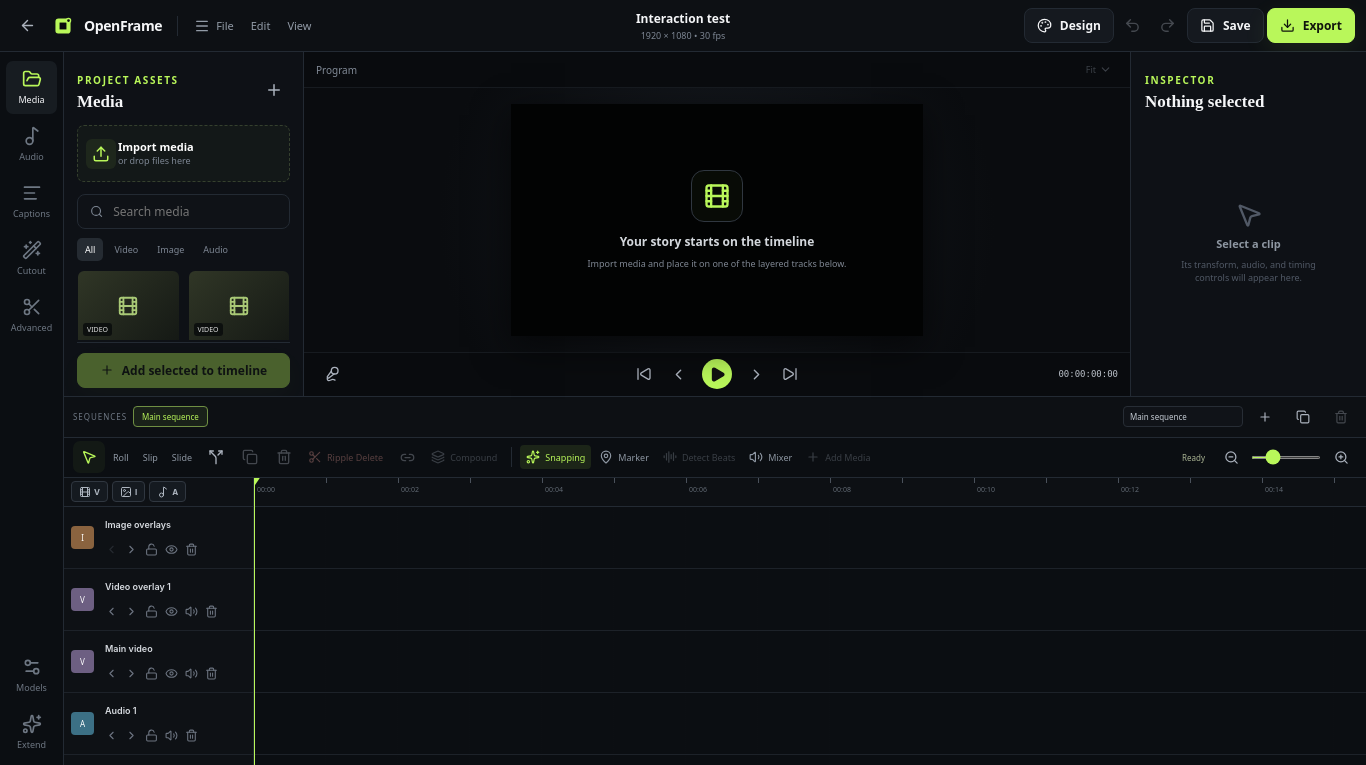
Test case: editor interactions › supports keyboard insertion, frame stepping, snapping, and deletion
Press Enter in the button "VIDEO one.mp4 video • 00:00:03:00 Timeline", box [77,270,180,407]
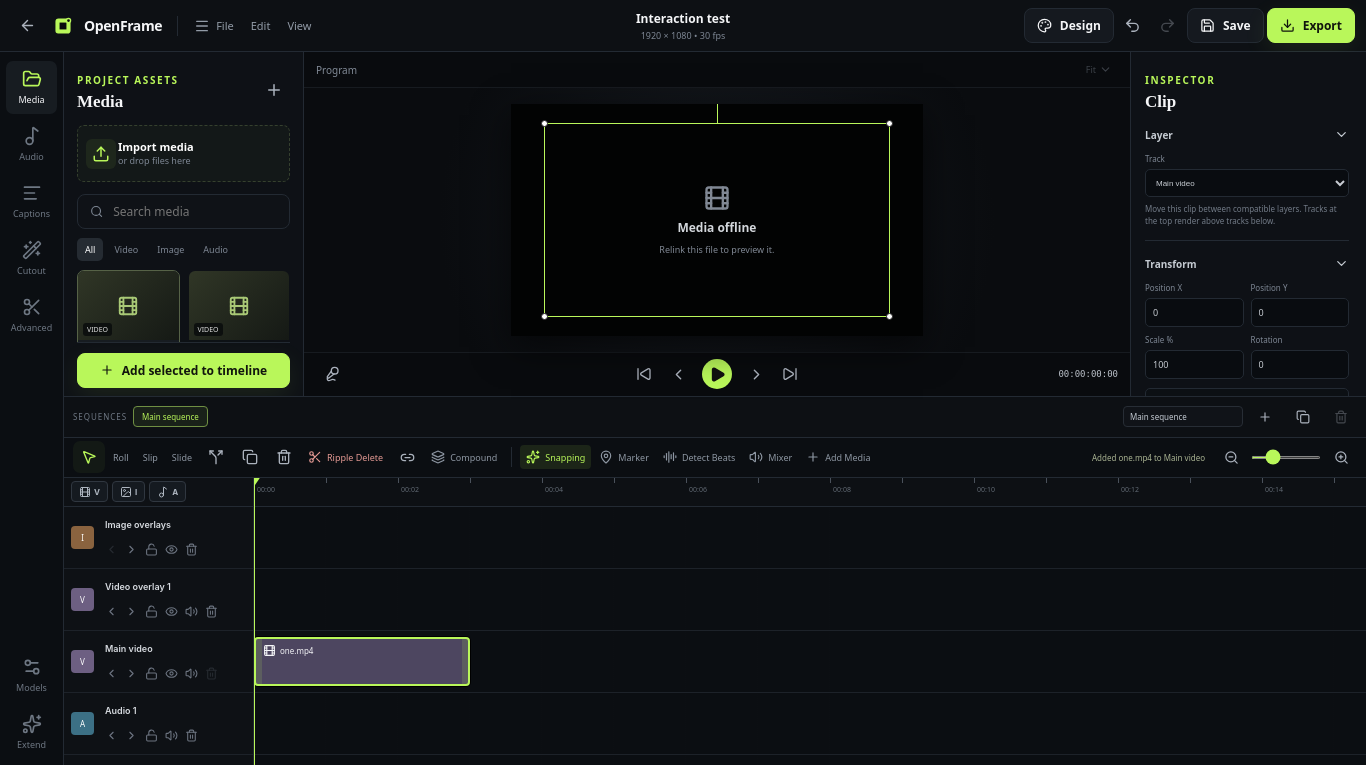
expect the number of elements with class "timeline-clip" is 1: met, box [254,637,470,686]
Click the button titled "Next frame": (756, 374) [740,358,772,390]
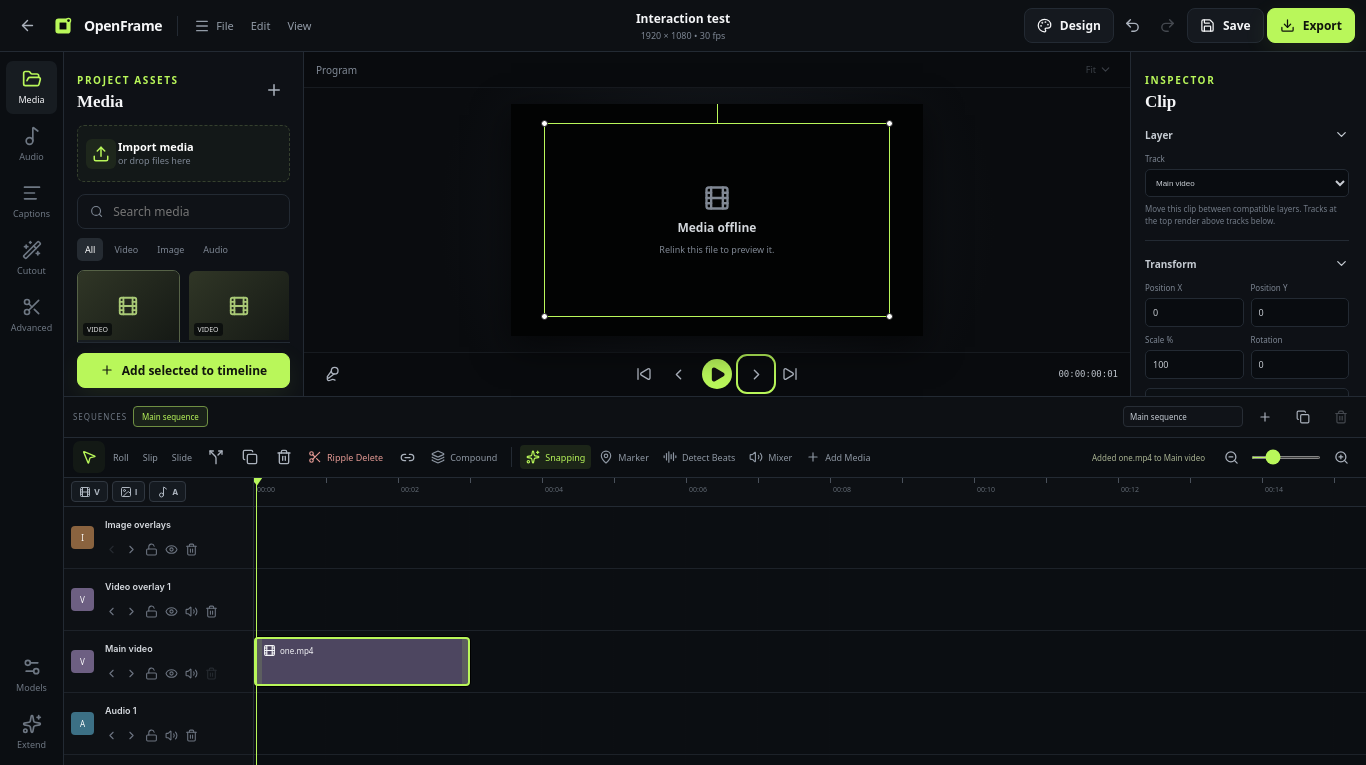
expect the text "00:00:00:01" is shown: met, box [1058,369,1118,379]
Click the button "Snapping": (556, 457) [520,445,591,469]
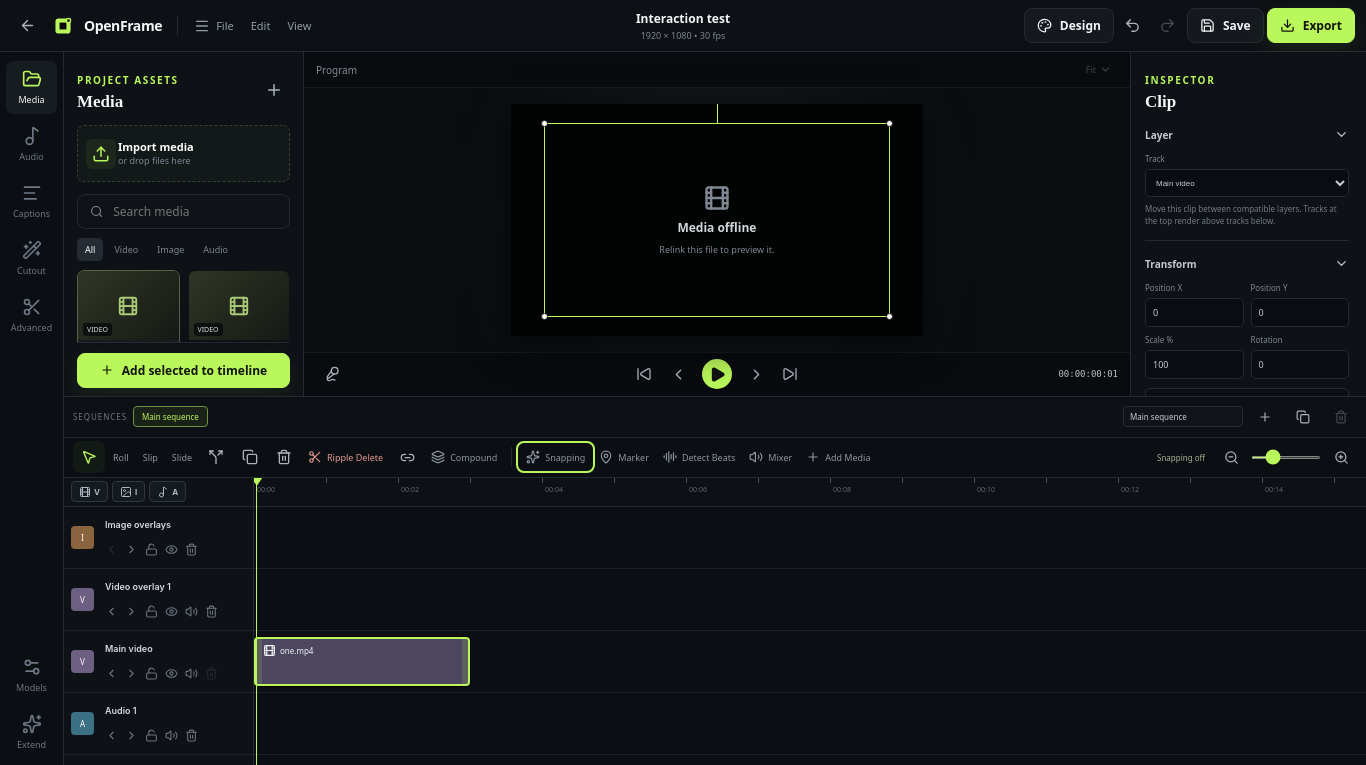
expect the button "Snapping" is not pressed: met, box [520,445,591,469]
Click the button titled "Delete selected clip": (284, 457) [268,441,300,473]
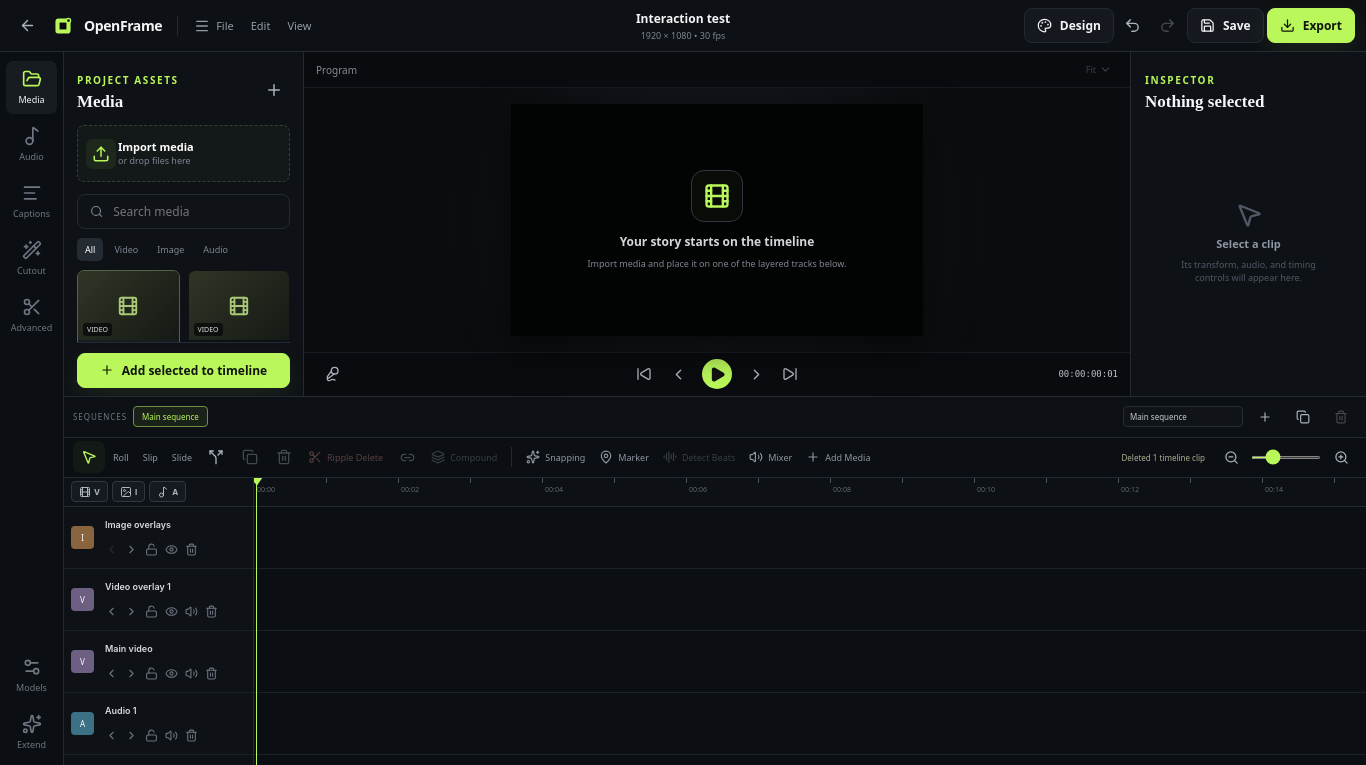
expect no elements with class "timeline-clip" are shown: met
